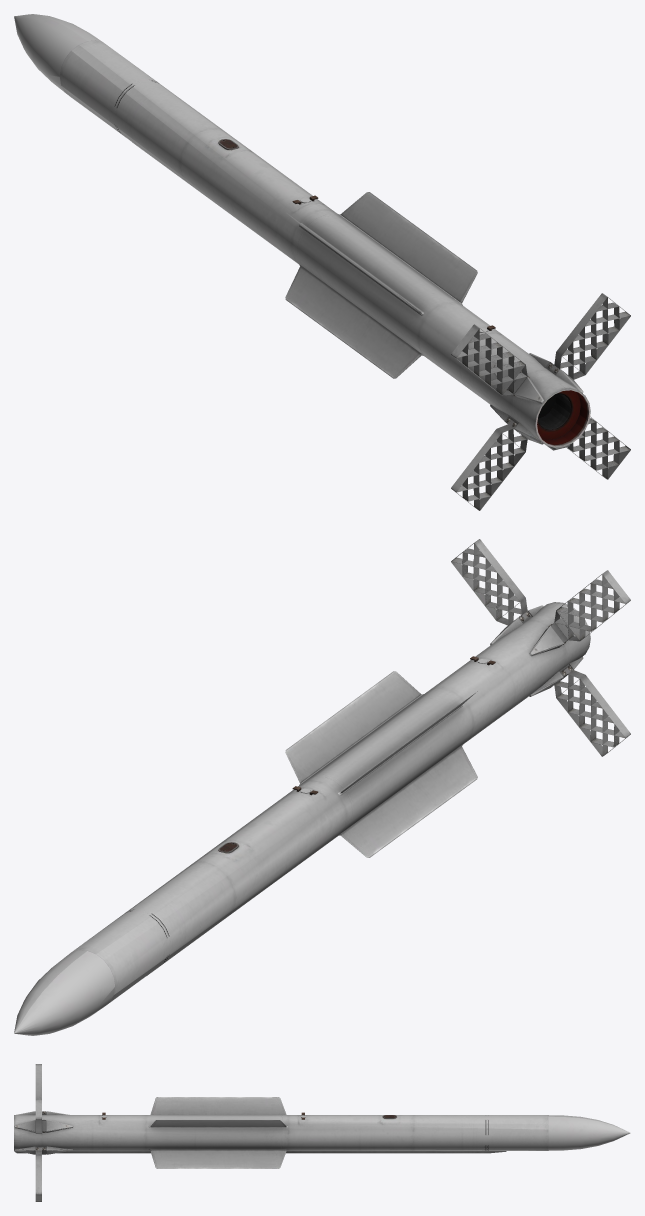
File: aam_r77.glb
3 views of the same model, one above another, from view 1: azimuth 30°, elevation 25°; view 2: azimuth 150°, elevation 25°; view 3: azimuth 270°, elevation 25° (orthographic). The views are drawn at different scales.
Visible parts, largest first — view 1: body|w_4aam_r0-Mat; view 2: body|w_4aam_r0-Mat; view 3: body|w_4aam_r0-Mat.
Boxes of the visible parts, x1,y1,x2,y2 form: body|w_4aam_r0-Mat: [14, 14, 630, 510]; body|w_4aam_r0-Mat: [14, 539, 630, 1035]; body|w_4aam_r0-Mat: [14, 1064, 630, 1201].
Bounding box in the file's own units: 0.6618 × 0.6618 × 3.61.
1 material, 1 textured.
